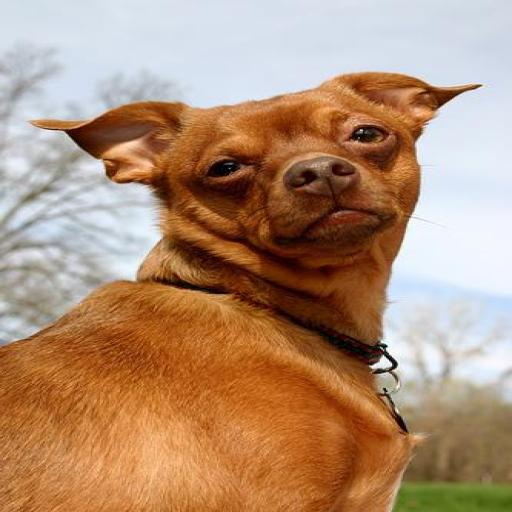dog_face: (37, 55, 438, 250)
